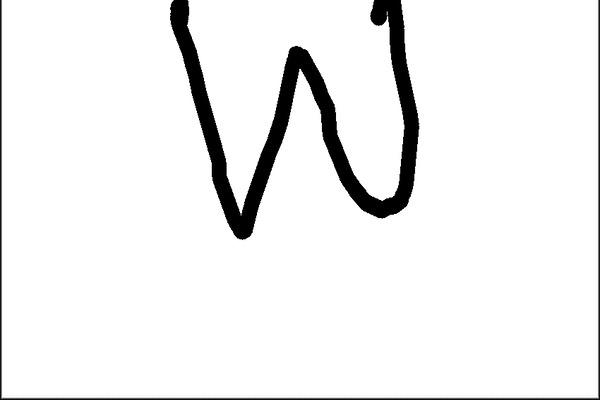w: (146, 0, 432, 247)
